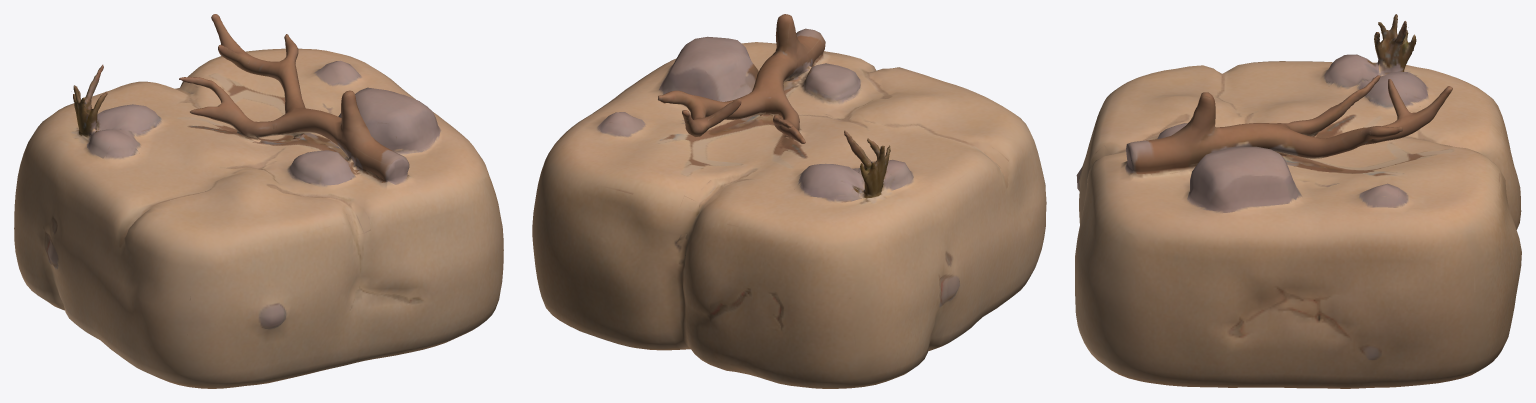
File: Ground_Dry_002.fbx
3 views of the same model, side by side, from view 1: azimuth 30°, elevation 25°; view 2: azimuth 150°, elevation 25°; view 3: azimuth 270°, elevation 25° (orthographic). The views are drawn at different scales.
Parts seen in each view (by area): view 1: Ground_Dry_002; view 2: Ground_Dry_002; view 3: Ground_Dry_002.
Boxes of the visible parts, x1,y1,x2,y2 form: Ground_Dry_002: (14,14,503,388); Ground_Dry_002: (532,14,1046,388); Ground_Dry_002: (1075,14,1521,388).
Size of the model in its own units: 99.88 by 60.37 by 99.68.
